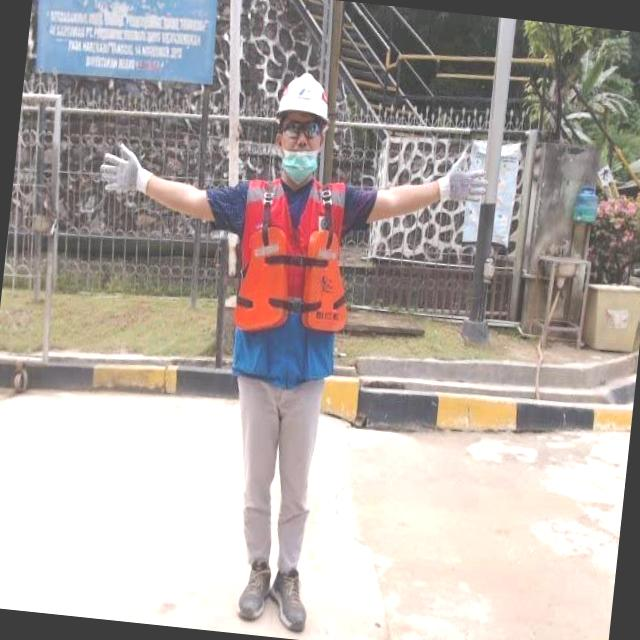boots: (266, 564, 312, 632), (234, 558, 274, 627)
gloves: (424, 134, 516, 242), (70, 119, 164, 218)
helmet: (274, 70, 332, 124)
vest: (227, 172, 361, 386)
